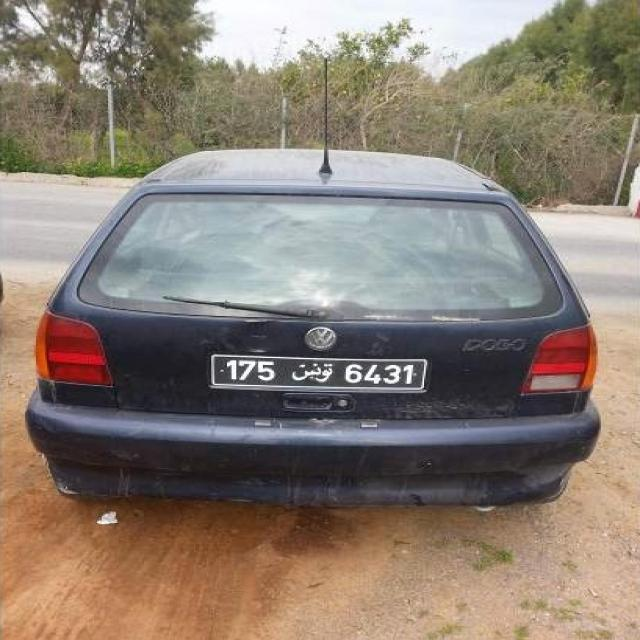licence plate: (215, 357, 424, 389)
